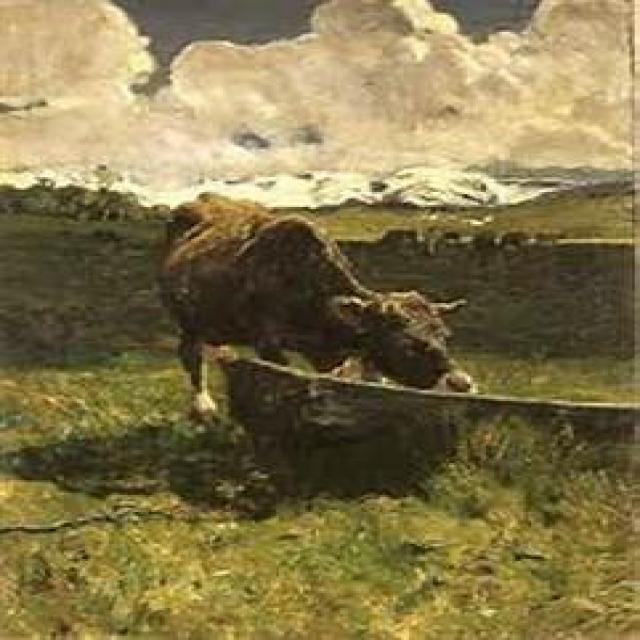cow: (154, 196, 473, 418)
